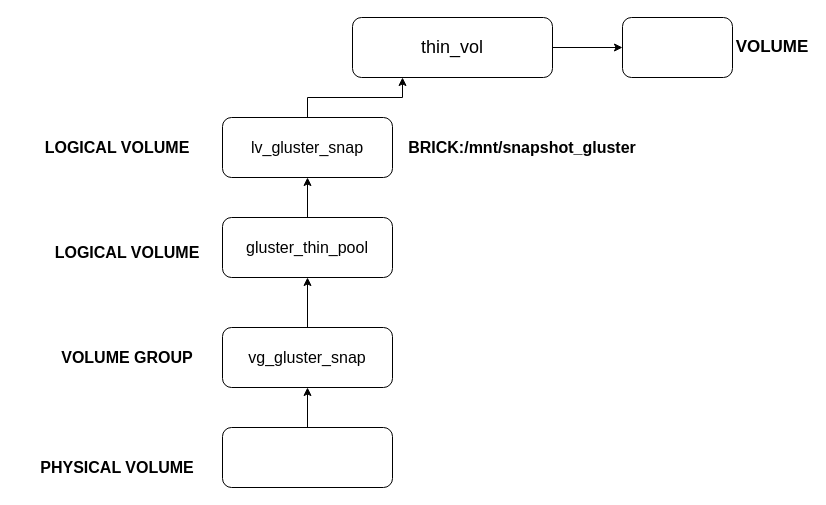
Image size: 826x505. Some labels were removed from this diagram. Here are the shapes that lost their labels. From the top down, the centre of each, then its label:
point (677, 47): snap-vol1
point (307, 457): /dev/sdb4
